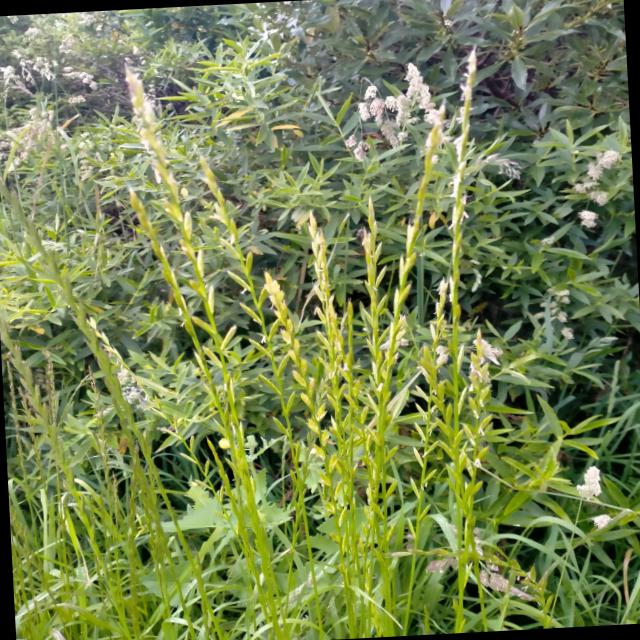Lolium: (122, 64, 286, 640), (334, 96, 475, 638), (85, 310, 282, 640), (200, 150, 324, 640), (430, 48, 512, 626), (0, 168, 134, 433), (342, 196, 398, 638), (306, 209, 362, 640), (446, 330, 506, 626), (6, 358, 46, 594), (43, 350, 72, 640), (16, 384, 41, 493)
